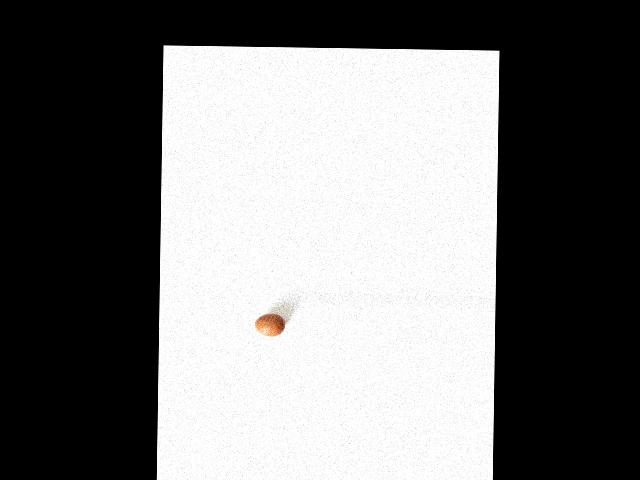egg: (254, 313, 285, 336)
